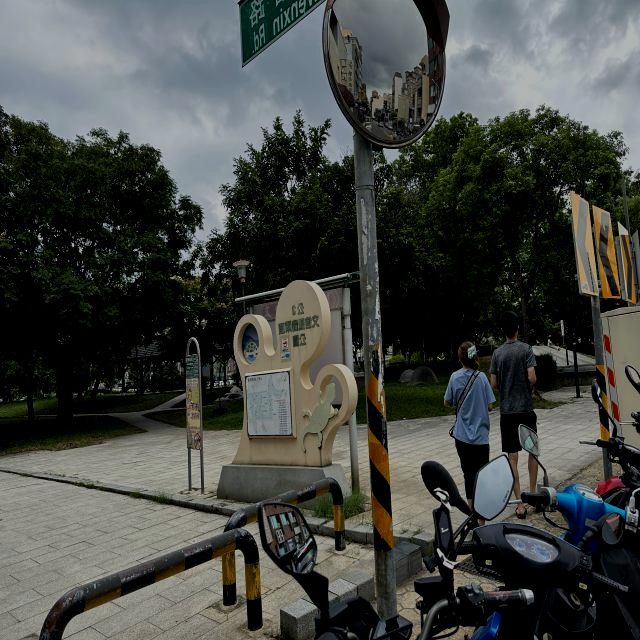Sin_Casco_Mascarrilla: (458, 340, 475, 369), (500, 311, 518, 337)
Sin_Chaleco: (452, 371, 486, 440), (497, 341, 527, 411)
